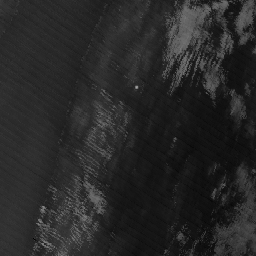Target: (134, 84, 139, 90)
